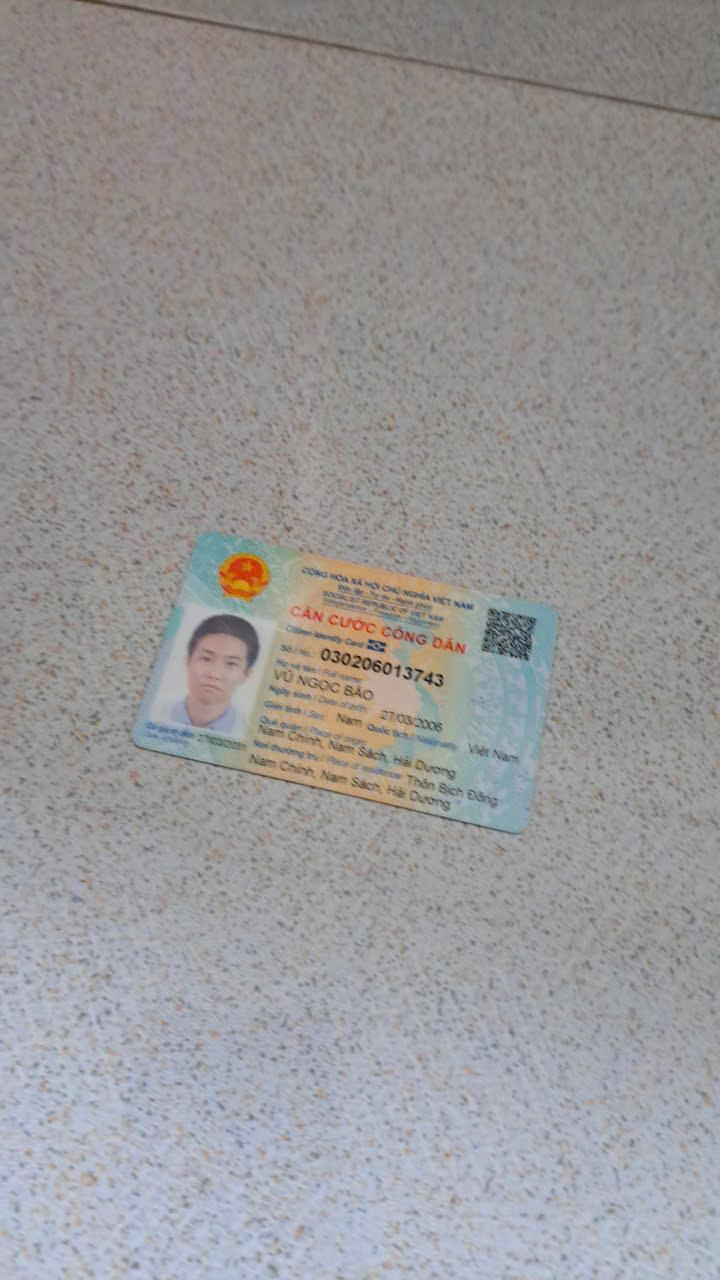cccd: (112, 513, 570, 841)
